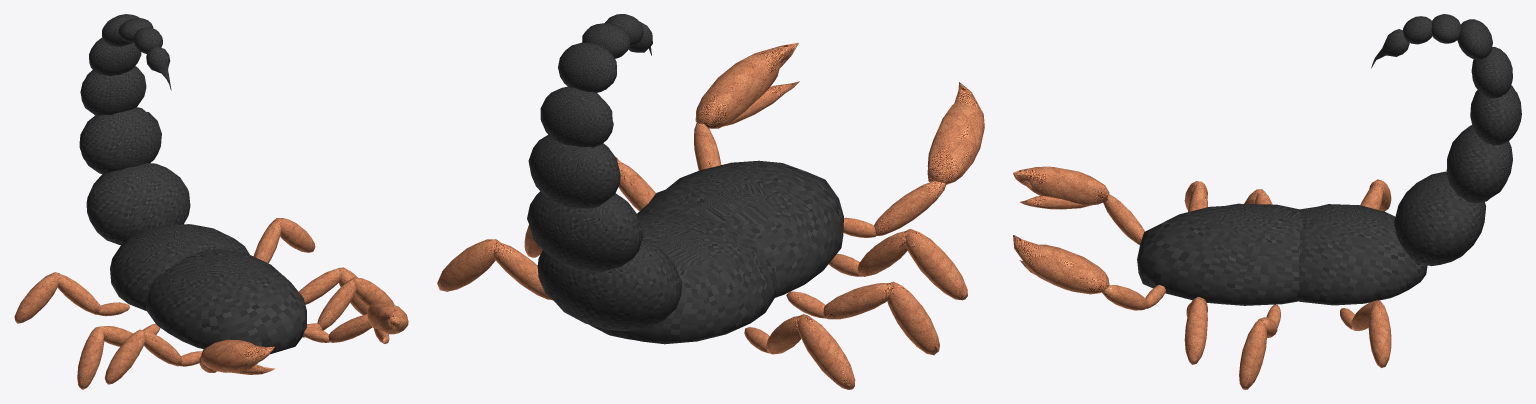
The model's file is scorpion_000004.obj.
The picture shows the model from 3 angles, left to right: view 1: azimuth 30°, elevation 25°; view 2: azimuth 150°, elevation 25°; view 3: azimuth 270°, elevation 25°; orthographic projection. The views are drawn at different scales.
Visible parts, largest first — view 1: Sphere.010_Sphere.012, Sphere.002_Sphere.004, Sphere.011_Sphere.013, Sphere.003_Sphere.005, Sphere.030_Sphere.000, Sphere.004_Sphere.006, Sphere.014_Sphere.023, Sphere.000_Sphere.019, Sphere.013_Sphere.017, Sphere.018_Sphere.025, Sphere.012_Sphere.020, Sphere.005_Sphere.007 (+8 smaller); view 2: Sphere.010_Sphere.012, Sphere.011_Sphere.013, Sphere.002_Sphere.004, Sphere.030_Sphere.000, Sphere.003_Sphere.005, Sphere.004_Sphere.006, Sphere.014_Sphere.023, Sphere.005_Sphere.007, Sphere.028_Sphere.046, Sphere.006_Sphere.008, Sphere.012_Sphere.020, Sphere.013_Sphere.017 (+9 smaller); view 3: Sphere.010_Sphere.012, Sphere.011_Sphere.013, Sphere.002_Sphere.004, Sphere.030_Sphere.000, Sphere.003_Sphere.005, Sphere.004_Sphere.006, Sphere.028_Sphere.046, Sphere.005_Sphere.007, Sphere.014_Sphere.023, Sphere.000_Sphere.019, Sphere.012_Sphere.020, Sphere.006_Sphere.008 (+6 smaller).
Part boxes in pixels (box(x1,y1,x2,y2)): Sphere.010_Sphere.012: box(145, 249, 306, 354); Sphere.002_Sphere.004: box(86, 163, 190, 245); Sphere.011_Sphere.013: box(110, 224, 249, 310); Sphere.003_Sphere.005: box(79, 107, 161, 174); Sphere.030_Sphere.000: box(200, 302, 408, 372); Sphere.004_Sphere.006: box(80, 66, 146, 115); Sphere.014_Sphere.023: box(14, 218, 315, 323); Sphere.000_Sphere.019: box(104, 277, 394, 384); Sphere.013_Sphere.017: box(144, 278, 356, 366); Sphere.018_Sphere.025: box(57, 219, 281, 314); Sphere.012_Sphere.020: box(77, 267, 369, 389); Sphere.005_Sphere.007: box(89, 38, 141, 75); Sphere.010_Sphere.012: box(637, 160, 843, 297); Sphere.011_Sphere.013: box(589, 211, 777, 344); Sphere.002_Sphere.004: box(537, 236, 682, 331); Sphere.030_Sphere.000: box(695, 42, 984, 184); Sphere.003_Sphere.005: box(527, 191, 642, 272); Sphere.004_Sphere.006: box(528, 135, 620, 208); Sphere.014_Sphere.023: box(437, 239, 855, 389); Sphere.005_Sphere.007: box(540, 86, 613, 147); Sphere.028_Sphere.046: box(694, 123, 946, 235); Sphere.006_Sphere.008: box(558, 42, 616, 92); Sphere.012_Sphere.020: box(524, 224, 939, 355); Sphere.013_Sphere.017: box(617, 160, 907, 276); Sphere.010_Sphere.012: box(1137, 203, 1303, 305); Sphere.011_Sphere.013: box(1297, 204, 1427, 305); Sphere.002_Sphere.004: box(1394, 171, 1486, 266); Sphere.030_Sphere.000: box(1013, 166, 1109, 294); Sphere.003_Sphere.005: box(1446, 125, 1512, 203); Sphere.004_Sphere.006: box(1470, 85, 1521, 145); Sphere.028_Sphere.046: box(1102, 194, 1148, 310); Sphere.005_Sphere.007: box(1471, 47, 1512, 98); Sphere.014_Sphere.023: box(1368, 179, 1391, 367); Sphere.000_Sphere.019: box(1184, 181, 1207, 364); Sphere.012_Sphere.020: box(1239, 189, 1266, 389); Sphere.006_Sphere.008: box(1457, 19, 1492, 59).
Bounding box in the file's own units: 0.9418 × 0.8045 × 1.26.
2 materials, 2 textured.
